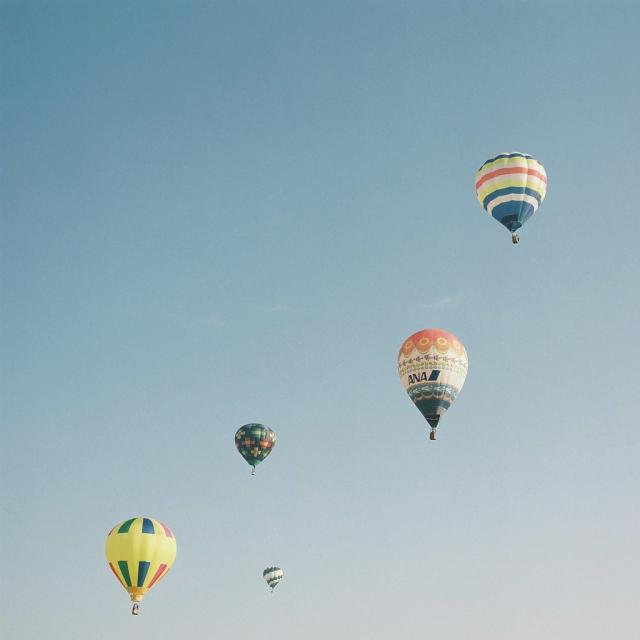balloon: (105, 516, 178, 616)
